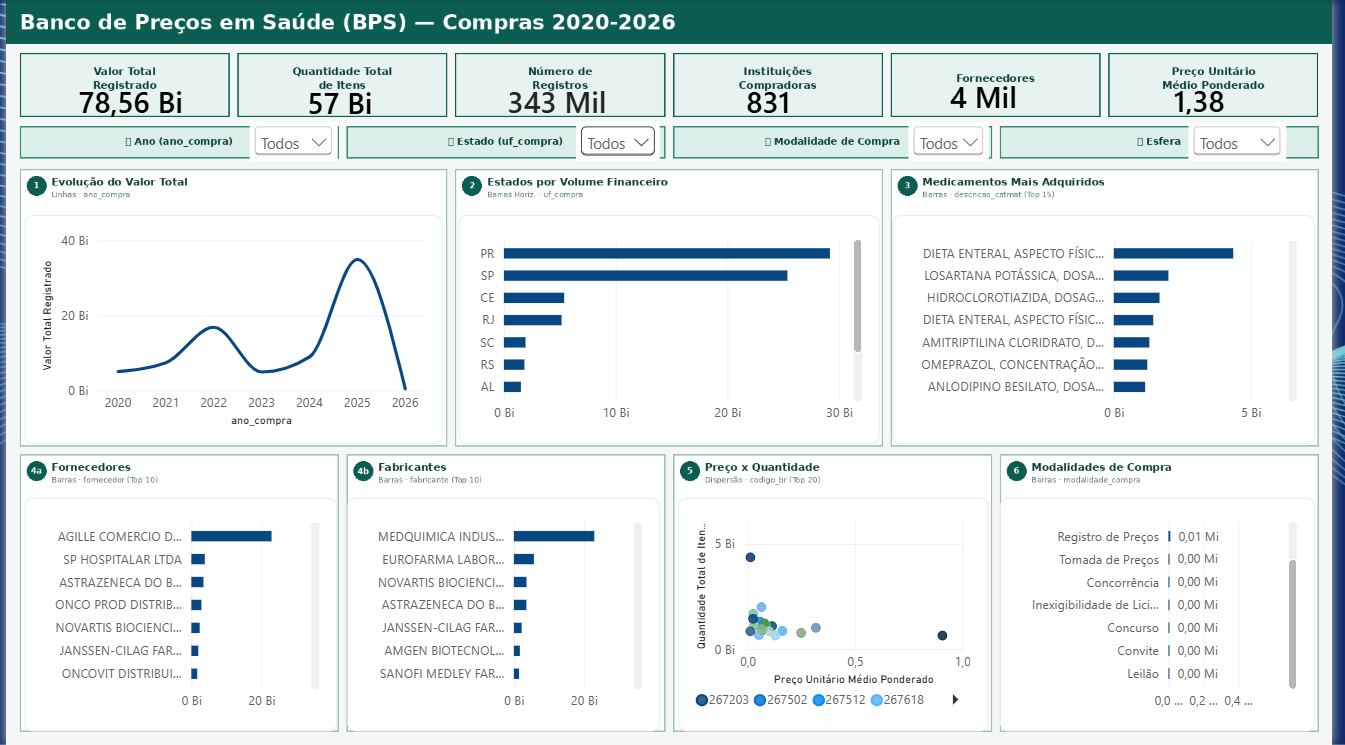

Layout of this report page (visuals, bound fields, positions):
{"tool":"powerbi","page":{"name":"Página 4","canvas":[1280,720],"ordinal":0},"visuals":[{"type":"lineChart","fields":{"Category":["Original.ano_compra"],"Y":["Original.Valor Total Registrado"]},"box":[18.1,208.7,403,220.8],"z":0},{"type":"barChart","fields":{"Category":["Original.uf"],"Y":["Original.Valor Total Registrado"]},"box":[436.7,208.7,406.6,220.8],"z":1000},{"type":"barChart","fields":{"Category":["Original.descricao_catmat"],"Y":["Sum(Original.qtd_itens_comprados)"]},"box":[855.4,208.7,407.8,220.8],"z":2000},{"type":"clusteredBarChart","fields":{"Category":["Original.fornecedor"],"Y":["Original.Valor Total Registrado"]},"box":[18.1,481.4,301.6,225.6],"z":3000},{"type":"scatterChart","fields":{"Series":["Original.codigo_br"],"X":["Original.Preço Unitário Médio Ponderado"],"Y":["Original.Quantidade Total de Itens Comprados"]},"box":[649.1,481.4,299.2,225.6],"z":4000},{"type":"barChart","fields":{"Category":["Original.modalidade_compra"],"Y":["Original.Número de Registros de Compra"]},"box":[959.1,481.4,304,225.6],"z":5000},{"type":"clusteredBarChart","fields":{"Category":["Original.fabricante"],"Y":["Original.Valor Total Registrado"]},"box":[329.4,481.4,301.6,225.6],"z":6000},{"type":"cardVisual","fields":{"Data":["Original.Número de Registros de Compra"]},"box":[468.1,65.1,141.2,47.1],"z":7000},{"type":"cardVisual","fields":{"Data":["Sum(Original.qtd_itens_comprados)"]},"box":[275.1,80.8,108.6,37.4],"z":8000},{"type":"cardVisual","fields":{"Data":["Original.Valor Total Registrado"]},"box":[54.3,71.2,194.2,55.5],"z":9000},{"type":"cardVisual","fields":{"Data":["Original.Instituições Compradoras"]},"box":[698.5,71.2,85.7,55.5],"z":10000},{"type":"cardVisual","fields":{"Data":["Original.Fornecedores"]},"box":[895.2,74.8,126.7,37.4],"z":11000},{"type":"cardVisual","fields":{"Data":["Original.Preço Unitário Médio Ponderado"]},"box":[1111.1,84.5,82,27.7],"z":12000},{"type":"slicer","fields":{"Values":["Original.uf"]},"box":[550.1,118.2,80.8,38.6],"z":12001},{"type":"slicer","fields":{"Values":["Original.ano_compra"]},"box":[235.3,118.2,84.5,38.6],"z":12002},{"type":"slicer","fields":{"Values":["Original.modalidade_compra"]},"box":[871.1,118.2,77.2,38.6],"z":12003},{"type":"slicer","fields":{"Values":["Original.esfera"]},"box":[1141.3,118.2,94.1,38.6],"z":12004}]}

Visuals, with their boxes in screenshot pixels (x1, y1, x2, y2), scaled from the page's 1280x720 canvas onto the 1345x745 screenshot:
lineChart - Original.ano_compra x Original.Valor Total Registrado: 19,216,442,444
barChart - Original.uf x Original.Valor Total Registrado: 459,216,886,444
barChart - Original.descricao_catmat x Sum(Original.qtd_itens_comprados): 899,216,1327,444
clusteredBarChart - Original.fornecedor x Original.Valor Total Registrado: 19,498,336,732
scatterChart - Original.codigo_br x Original.Preço Unitário Médio Ponderado: 682,498,996,732
barChart - Original.modalidade_compra x Original.Número de Registros de Compra: 1008,498,1327,732
clusteredBarChart - Original.fabricante x Original.Valor Total Registrado: 346,498,663,732
cardVisual - Original.Número de Registros de Compra: 492,67,640,116
cardVisual - Sum(Original.qtd_itens_comprados): 289,84,403,122
cardVisual - Original.Valor Total Registrado: 57,74,261,131
cardVisual - Original.Instituições Compradoras: 734,74,824,131
cardVisual - Original.Fornecedores: 941,77,1074,116
cardVisual - Original.Preço Unitário Médio Ponderado: 1168,87,1254,116
slicer - Original.uf: 578,122,663,162
slicer - Original.ano_compra: 247,122,336,162
slicer - Original.modalidade_compra: 915,122,996,162
slicer - Original.esfera: 1199,122,1298,162
